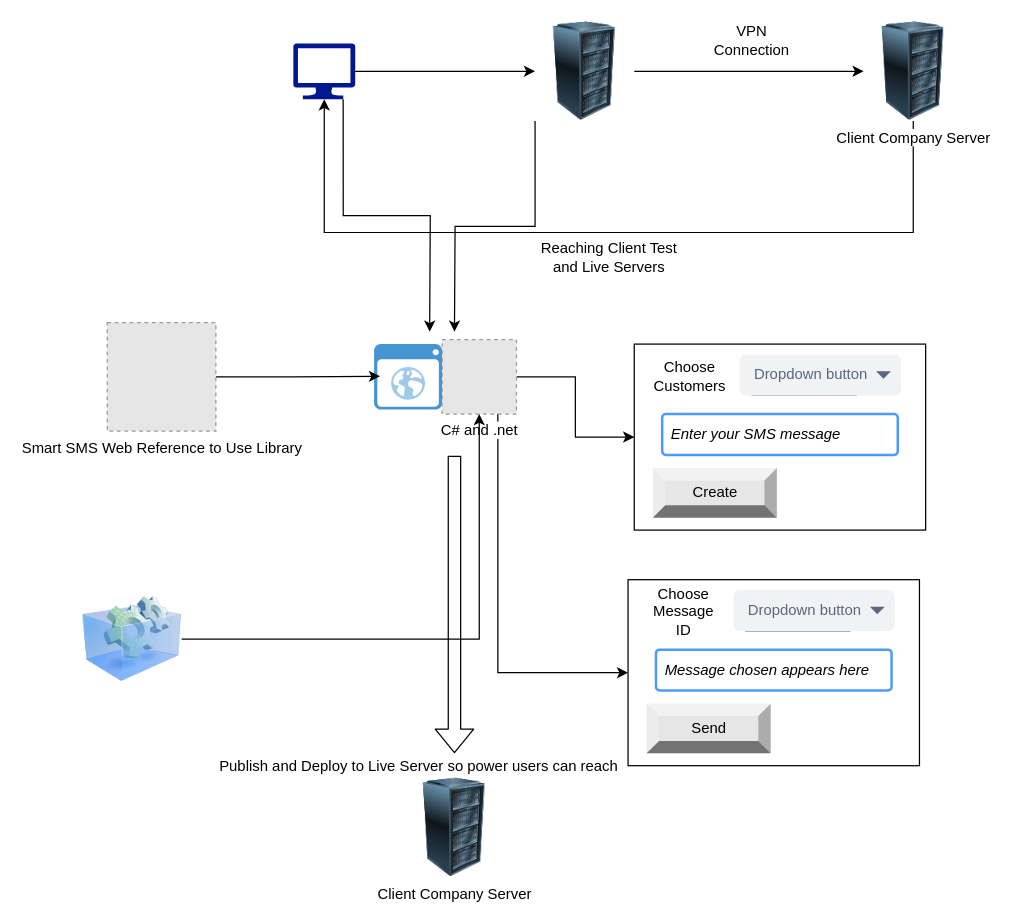
Some shapes in this 1012 by 924 pixel diagram are drawn without their labels. Grey dashed boxes stand in for pictures. The centre of each missing label's shape, as x and y in pixels:
"COmpany Computer" goes at point (324, 71).
"Company Server" goes at point (584, 70).
"Microsoft Dynamic 365 CRM" goes at point (131, 638).
"Web UI" goes at point (407, 376).
